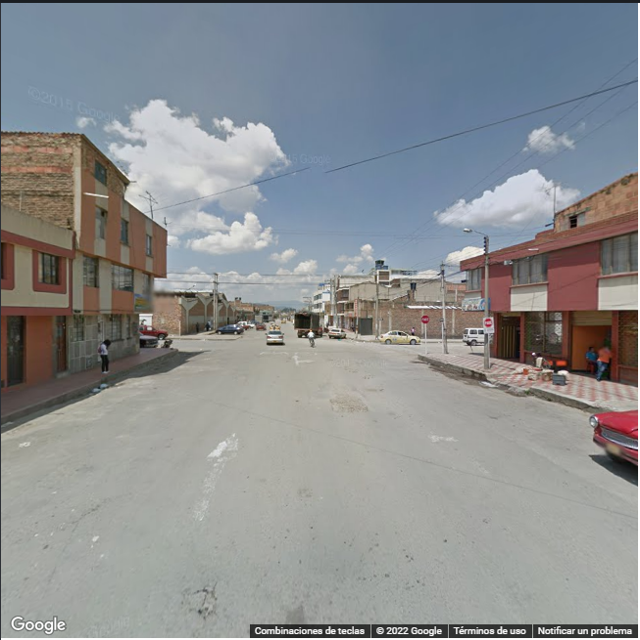D00: (49, 519, 79, 596)
D40: (186, 585, 213, 615)
